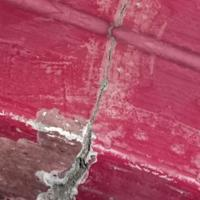crack: (35, 8, 158, 199)
